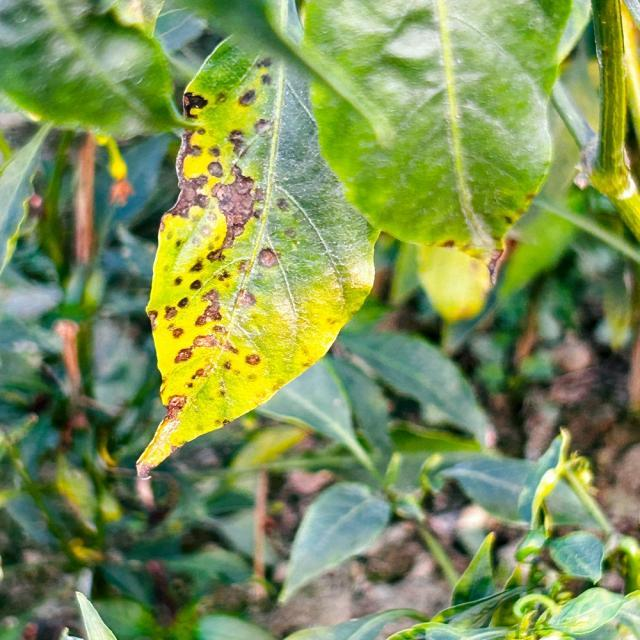Bercak Daun Serkospora: (134, 31, 381, 478)
